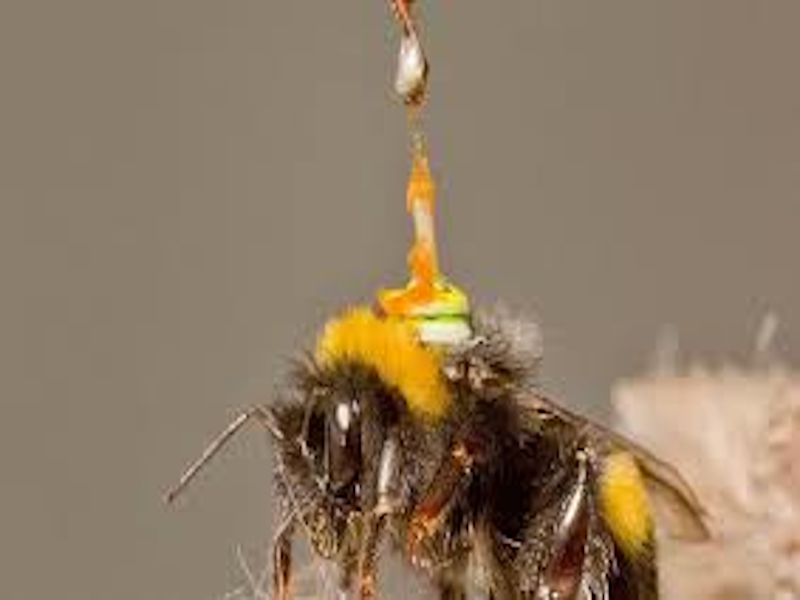abeja: (138, 291, 693, 600)
